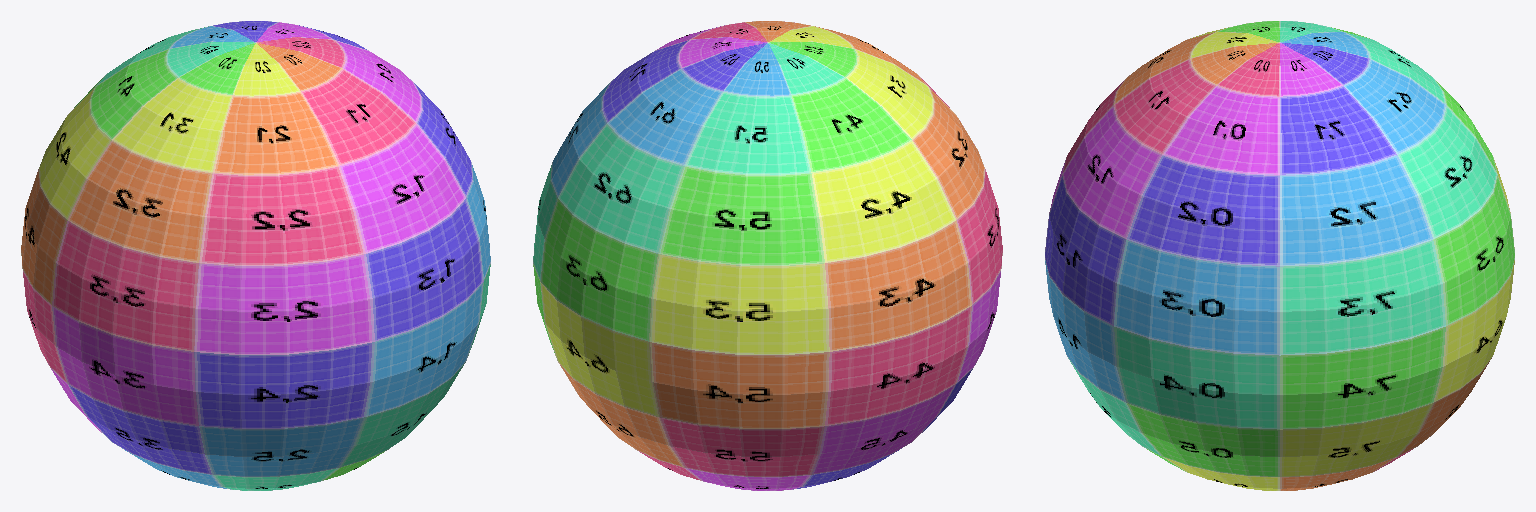
3 views of the same model, side by side, from view 1: azimuth 30°, elevation 25°; view 2: azimuth 150°, elevation 25°; view 3: azimuth 270°, elevation 25° (orthographic).
Visible parts, largest first — view 1: 球; view 2: 球; view 3: 球.
Part boxes in pixels (left/top/right/bottom): 球: left=21, top=21, right=490, bottom=490; 球: left=533, top=21, right=1002, bottom=490; 球: left=1045, top=21, right=1514, bottom=490.
Size of the model in its own units: 2000 by 2000 by 2000.
1 materials, 1 textured.